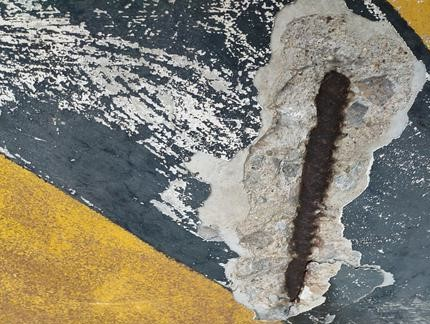Exposed reinforcement: (282, 70, 352, 303)
Spalling: (184, 1, 427, 324)
